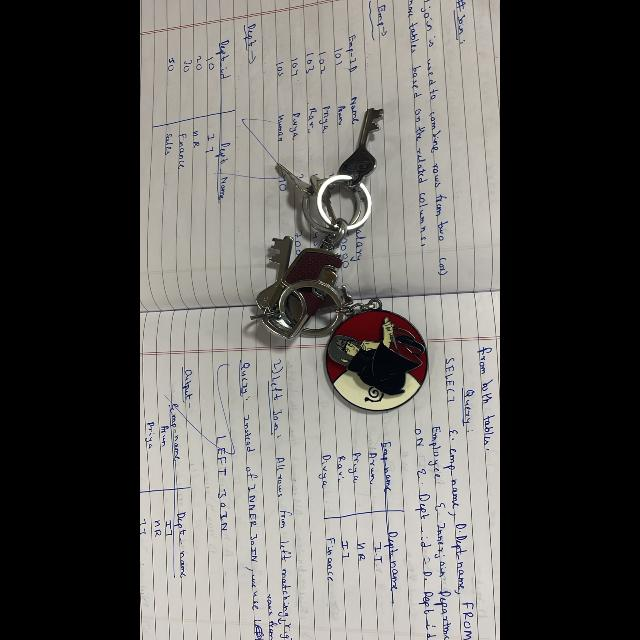keys: (225, 86, 445, 432)
